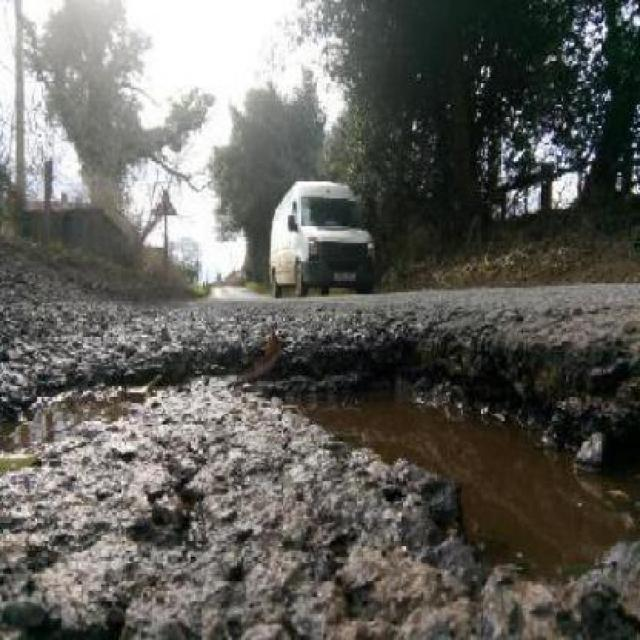pothole: (0, 331, 638, 604)
